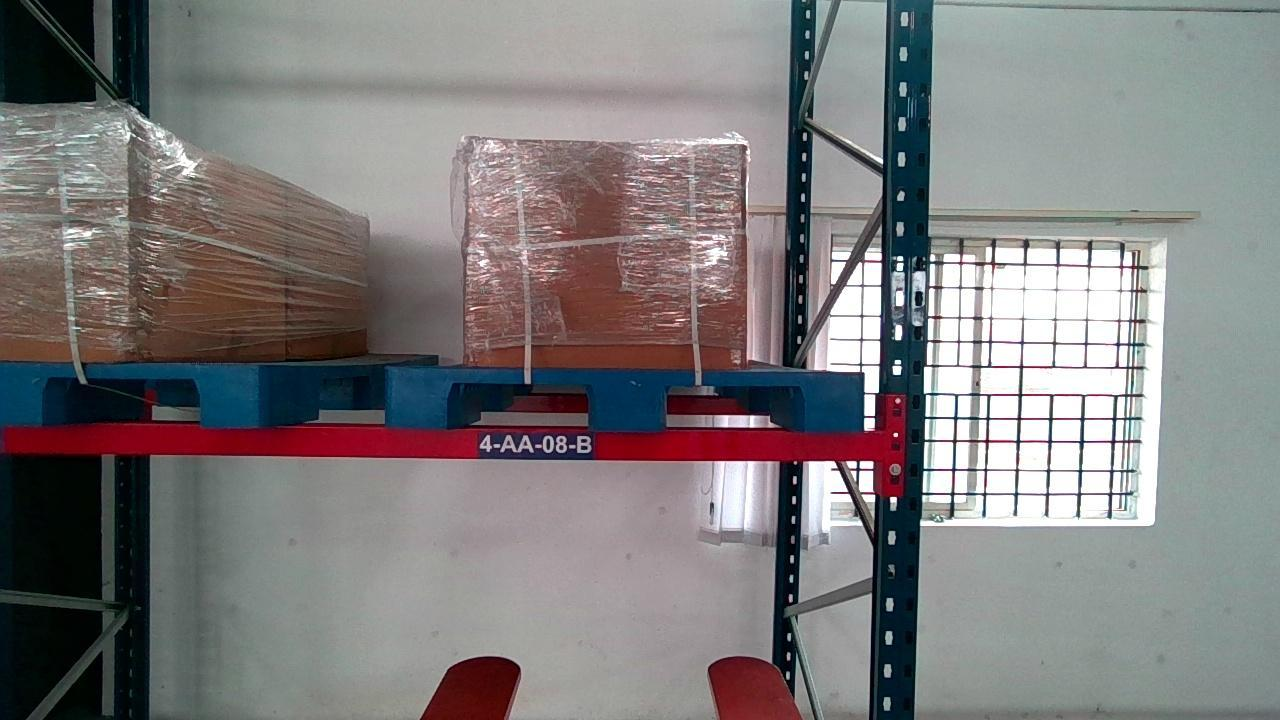h_rack: (3, 427, 886, 461)
small_pallet: (381, 369, 865, 427), (1, 362, 259, 427)
